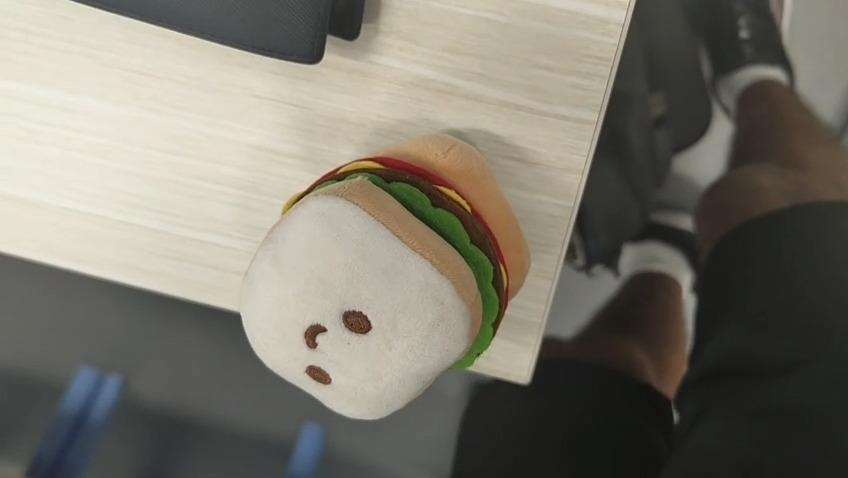objects: (241, 138, 532, 419)
